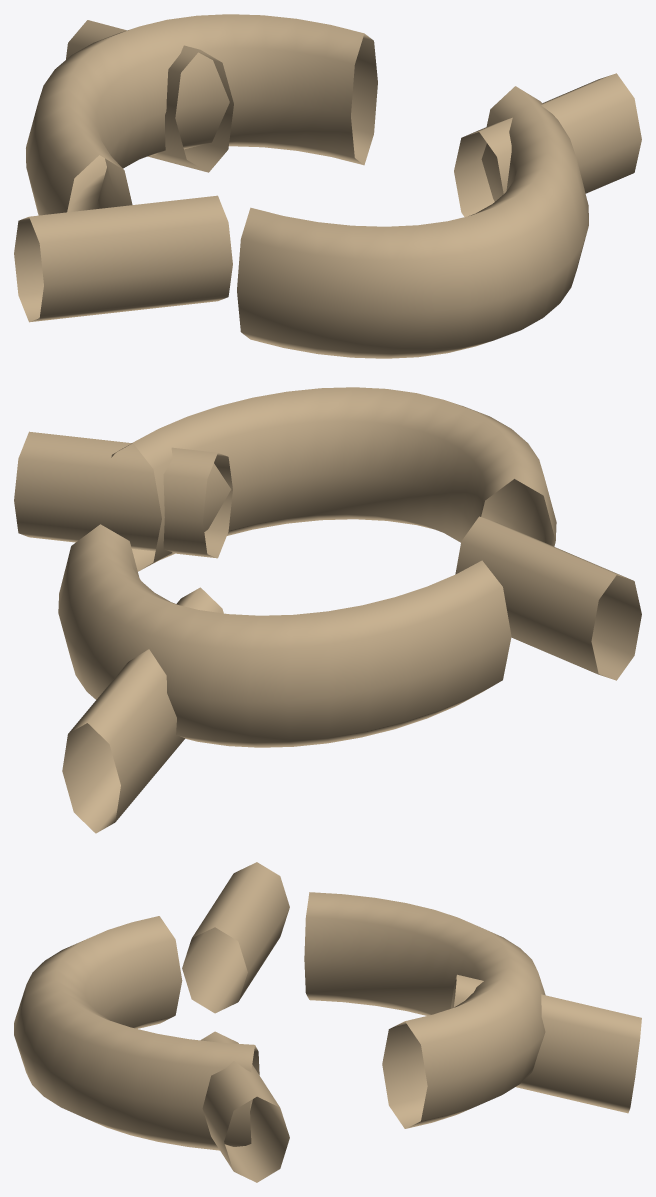
Rendered from c1_atlas.glb.
3 renders of one model, top to bottom at view 1: azimuth 30°, elevation 25°; view 2: azimuth 150°, elevation 25°; view 3: azimuth 270°, elevation 25°, orthographic. The views are drawn at different scales.
Parts seen in each view (by area): view 1: c1_atlas:neural-arch-1, c1_atlas:neural-arch--1, c1_atlas:transverse--1, c1_atlas:transverse-1, c1_atlas:spinous-process; view 2: c1_atlas:neural-arch--1, c1_atlas:neural-arch-1, c1_atlas:transverse-1, c1_atlas:transverse--1, c1_atlas:spinous-process; view 3: c1_atlas:neural-arch--1, c1_atlas:neural-arch-1, c1_atlas:spinous-process, c1_atlas:transverse--1, c1_atlas:transverse-1.
Boxes of the visible parts, <box> form: c1_atlas:neural-arch-1: <box>237,86,588,358</box>; c1_atlas:neural-arch--1: <box>26,14,377,215</box>; c1_atlas:transverse--1: <box>14,195,232,322</box>; c1_atlas:transverse-1: <box>454,73,641,216</box>; c1_atlas:spinous-process: <box>66,20,233,172</box>; c1_atlas:neural-arch--1: <box>58,524,511,747</box>; c1_atlas:neural-arch-1: <box>111,387,556,571</box>; c1_atlas:transverse-1: <box>14,431,232,558</box>; c1_atlas:transverse--1: <box>455,516,641,680</box>; c1_atlas:spinous-process: <box>62,587,223,833</box>; c1_atlas:neural-arch--1: <box>304,892,545,1128</box>; c1_atlas:neural-arch-1: <box>14,916,259,1150</box>; c1_atlas:spinous-process: <box>450,974,641,1113</box>; c1_atlas:transverse--1: <box>182,862,289,1013</box>; c1_atlas:transverse-1: <box>201,1031,289,1182</box>.
Bounding box in the file's own units: 0.129 × 0.0365 × 0.1435.
